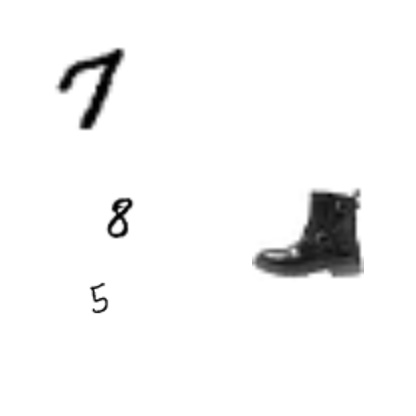5: (78, 277, 120, 319)
7: (36, 25, 148, 137)
8: (90, 188, 146, 244)
Ankle_boot: (252, 177, 364, 289)
